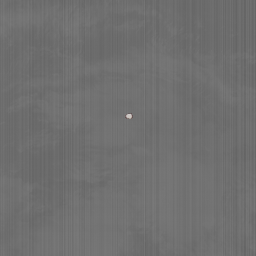Target: (125, 112, 131, 120)
